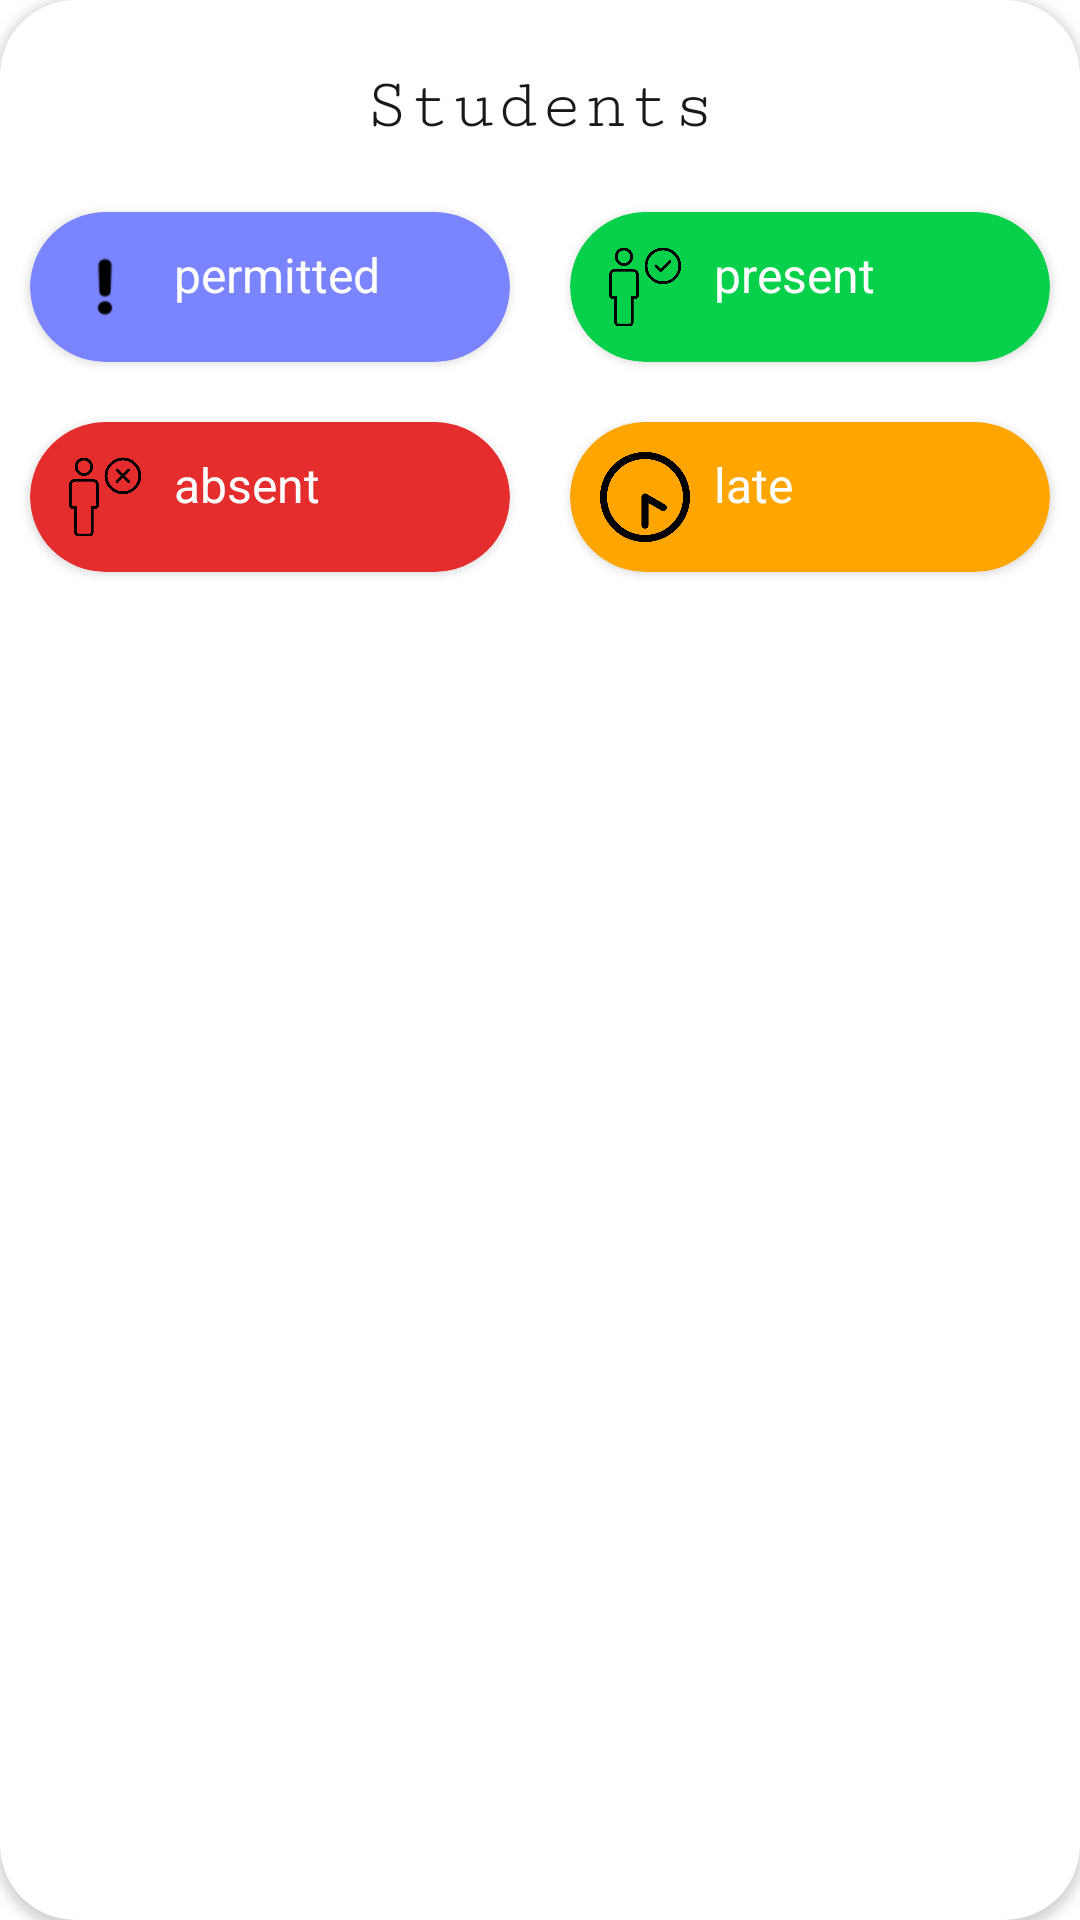

Named icons in this screenshot (1080x1920) and their centers, (x,y):
attendee: (645,287)
